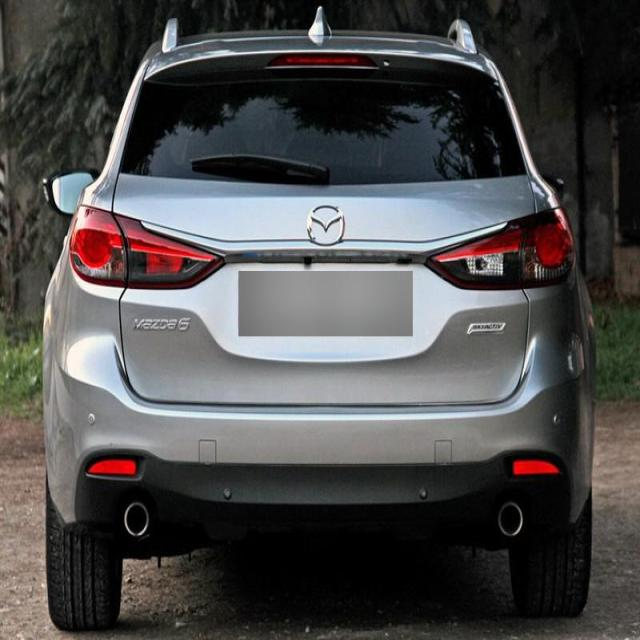back_glass: (117, 52, 531, 190)
back_left_side_light: (67, 201, 230, 293)
back_right_side_light: (424, 206, 576, 294)
front_left_side_mirror: (44, 166, 102, 222)
rear_bumper: (38, 299, 597, 534)
wheel: (507, 462, 595, 624), (44, 483, 124, 637)
